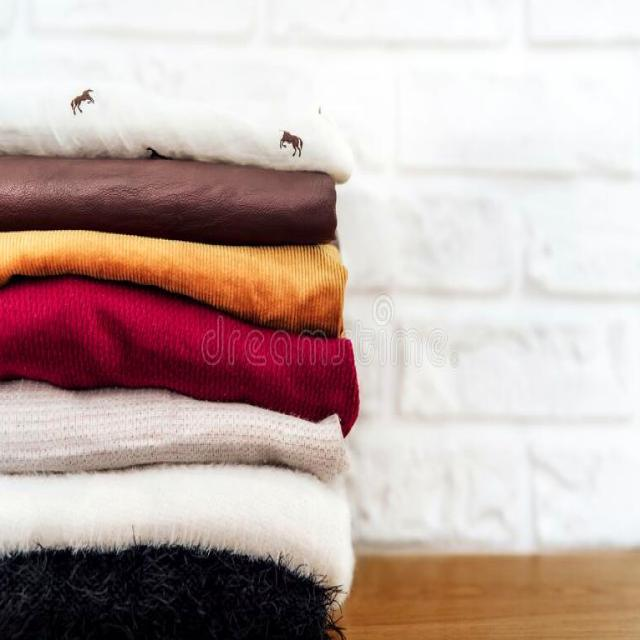clothes: (0, 64, 350, 640)
